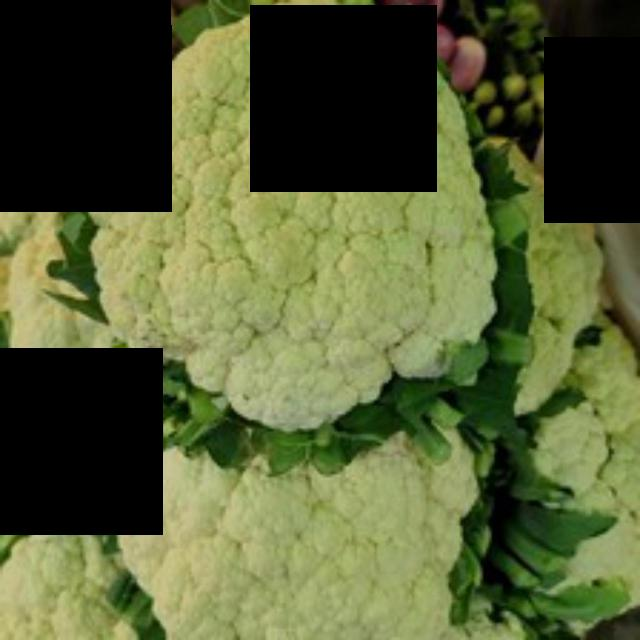cauliflower: (86, 3, 498, 441), (103, 446, 528, 636)
